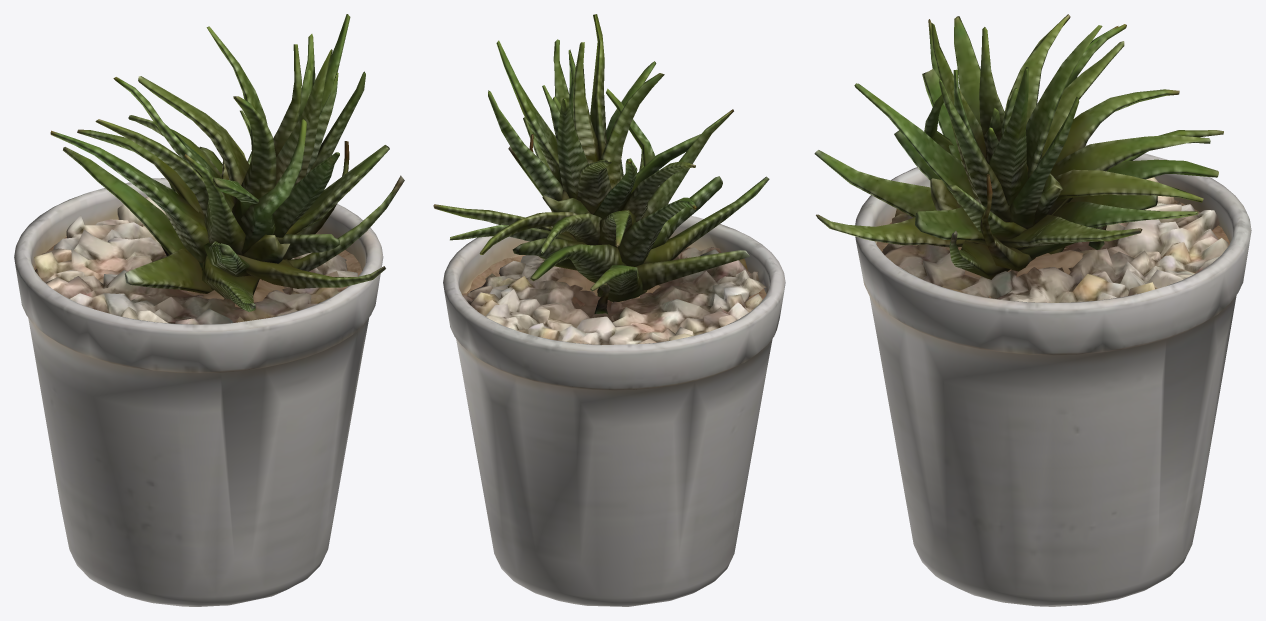
Rendered from potted_plant_04.glb.
3 views of the same model, side by side, from view 1: azimuth 30°, elevation 25°; view 2: azimuth 150°, elevation 25°; view 3: azimuth 270°, elevation 25° (orthographic). The views are drawn at different scales.
Visible parts, largest first — view 1: potted_plant_04_ground; view 2: potted_plant_04_ground; view 3: potted_plant_04_ground.
Boxes of the visible parts, x1,y1,x2,y2 form: potted_plant_04_ground: (14, 14, 404, 606); potted_plant_04_ground: (433, 14, 785, 606); potted_plant_04_ground: (814, 14, 1251, 606).
Size of the model in its own units: 0.1679 by 0.2672 by 0.1847.
1 material, 1 textured.
